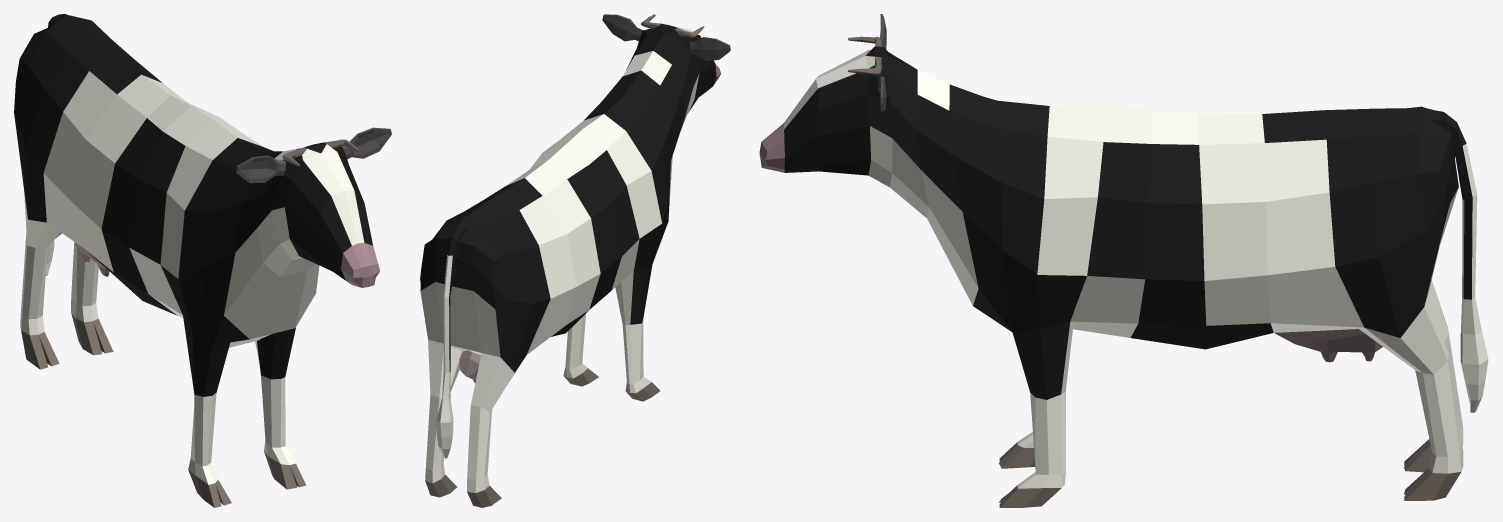
File: cow.fbx
3 views of the same model, side by side, from view 1: azimuth 30°, elevation 25°; view 2: azimuth 150°, elevation 25°; view 3: azimuth 270°, elevation 25° (orthographic). The views are drawn at different scales.
Visible parts, largest first — view 1: 13cowFinal; view 2: 13cowFinal; view 3: 13cowFinal.
Part boxes in pixels (<box>): 13cowFinal: <box>14,14,391,507</box>; 13cowFinal: <box>420,14,730,507</box>; 13cowFinal: <box>759,14,1488,507</box>.
Bounding box in the file's own units: 0.6881 × 1.66 × 2.54.
1 material, 1 textured.
